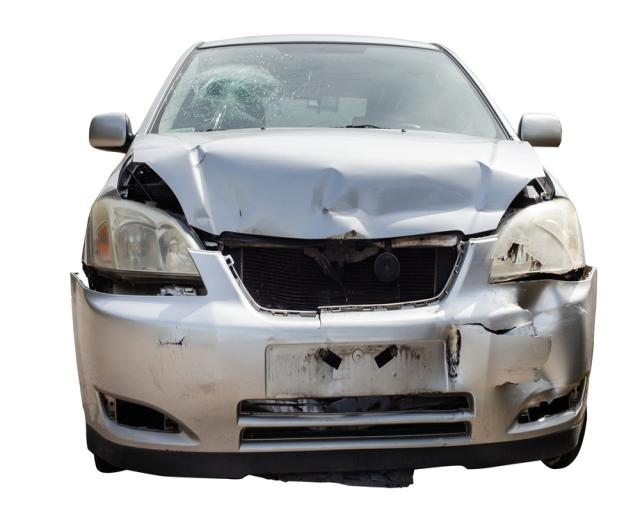crack: (461, 321, 518, 336), (497, 379, 541, 390), (316, 309, 323, 330)
dent: (187, 146, 526, 239), (514, 280, 567, 391), (443, 324, 462, 392)
glass shatter: (151, 42, 511, 140)
lamp broken: (490, 197, 586, 283)
